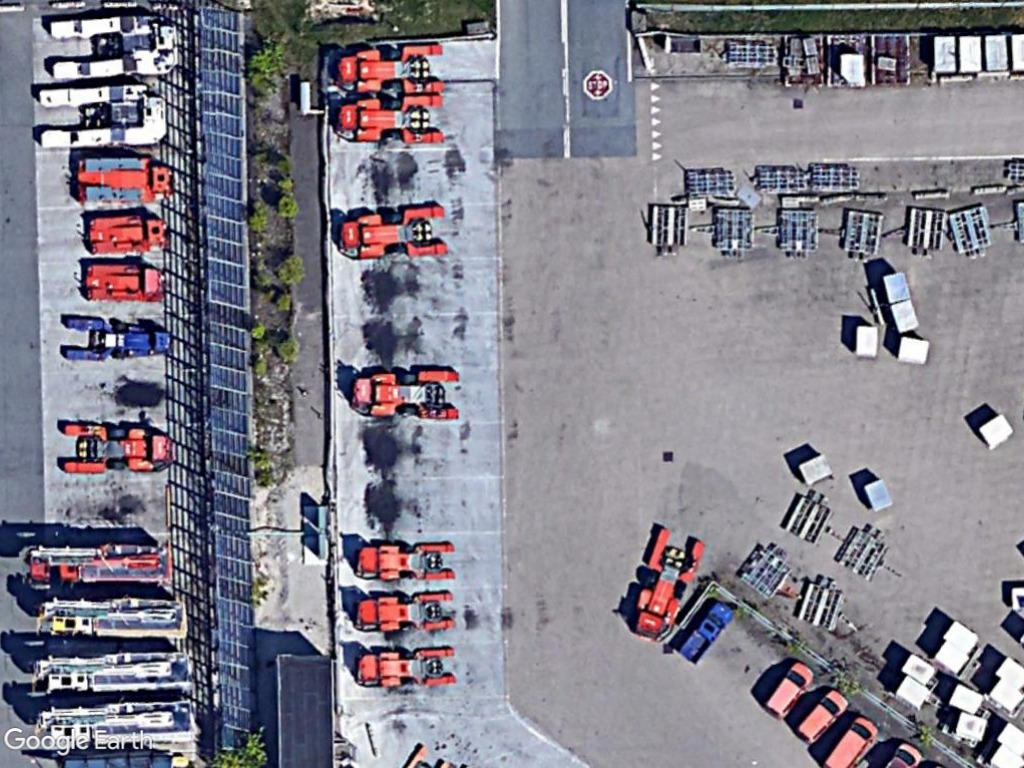pushbacktruck: (33, 75, 172, 156), (44, 9, 182, 85), (627, 524, 704, 639), (347, 363, 462, 428), (333, 201, 451, 264), (59, 310, 180, 370), (60, 419, 179, 480), (332, 90, 446, 148), (328, 42, 450, 94), (350, 644, 459, 694), (355, 587, 459, 639), (352, 539, 458, 586)
van: (761, 656, 817, 725), (817, 717, 880, 768), (794, 687, 850, 744)
